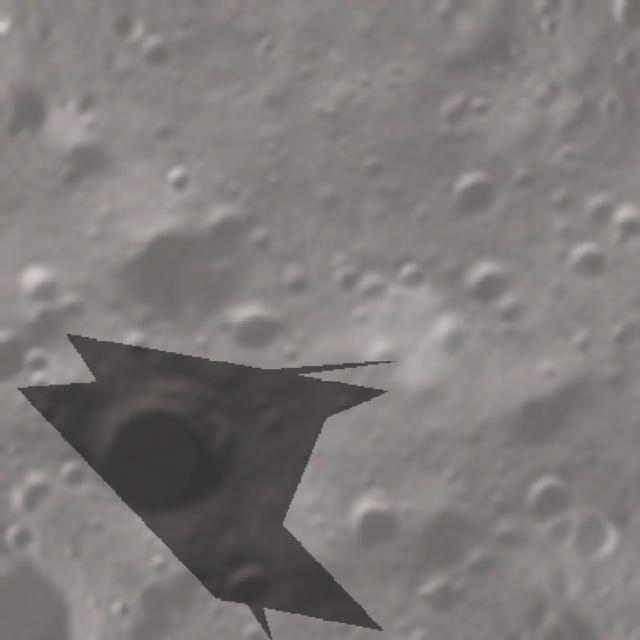crater: (67, 154, 290, 378), (52, 332, 271, 551), (478, 359, 593, 475), (392, 485, 493, 587), (322, 476, 415, 569), (427, 149, 518, 240), (498, 453, 588, 544), (32, 117, 120, 203), (210, 287, 296, 373), (208, 541, 292, 624), (445, 243, 520, 319), (0, 246, 74, 320), (552, 233, 618, 299), (407, 564, 471, 628), (412, 307, 474, 370), (43, 278, 103, 338), (126, 24, 185, 82), (484, 284, 542, 342), (572, 180, 630, 238), (0, 311, 38, 399), (355, 332, 410, 388), (106, 320, 162, 375), (382, 250, 435, 302), (148, 153, 200, 205), (41, 450, 94, 501), (320, 253, 371, 304), (318, 382, 367, 431), (502, 160, 552, 208), (600, 192, 640, 251), (237, 218, 285, 265), (275, 261, 323, 308), (302, 176, 348, 222), (10, 337, 55, 381), (544, 133, 588, 178), (270, 334, 313, 377), (352, 144, 394, 188), (540, 182, 583, 223), (0, 396, 23, 466), (353, 269, 392, 309), (242, 382, 280, 422), (338, 298, 378, 336), (139, 545, 178, 583), (167, 6, 205, 45), (246, 26, 283, 63), (20, 468, 58, 504), (21, 364, 56, 401), (392, 617, 443, 640), (460, 92, 494, 125), (626, 213, 640, 276), (0, 430, 15, 467), (318, 0, 371, 5)
